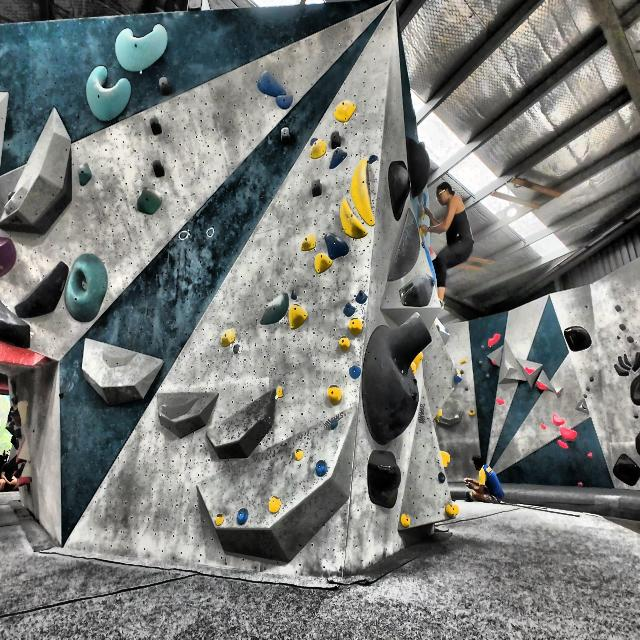Hold: (358, 314, 432, 446), (14, 259, 72, 323), (64, 257, 110, 331), (111, 19, 168, 77), (87, 66, 135, 128), (386, 207, 421, 286), (366, 450, 402, 508), (406, 134, 436, 200), (349, 158, 376, 226), (0, 298, 36, 348), (388, 155, 410, 218), (403, 270, 437, 306), (339, 198, 368, 239), (133, 190, 170, 222), (611, 451, 640, 488), (252, 69, 288, 96), (262, 292, 287, 329), (74, 159, 100, 192), (564, 324, 592, 354), (323, 230, 349, 261), (0, 235, 19, 272), (286, 303, 311, 331), (332, 99, 356, 122), (328, 145, 350, 170), (308, 137, 327, 164), (312, 254, 336, 274), (408, 351, 426, 376), (156, 72, 174, 97), (326, 384, 342, 411), (151, 155, 167, 181), (346, 317, 365, 336), (298, 232, 316, 252), (273, 94, 295, 110), (630, 373, 640, 408), (148, 116, 161, 139), (327, 129, 343, 147), (557, 427, 579, 440), (613, 364, 630, 380), (436, 449, 451, 467), (270, 495, 283, 515), (339, 336, 353, 354), (486, 334, 504, 348), (616, 354, 630, 372), (317, 459, 330, 478), (311, 178, 323, 198), (223, 328, 235, 348), (348, 364, 361, 382), (355, 289, 370, 304), (535, 379, 550, 394), (446, 503, 460, 519), (341, 300, 354, 317), (238, 508, 250, 526), (277, 126, 290, 142), (552, 413, 568, 426), (631, 350, 640, 373), (634, 430, 640, 457), (366, 152, 378, 165), (293, 447, 304, 461), (401, 514, 410, 531), (215, 514, 227, 526), (624, 350, 632, 367), (556, 440, 568, 451), (489, 355, 498, 369), (232, 342, 242, 354), (329, 418, 338, 430), (277, 386, 285, 399), (523, 366, 534, 375), (496, 395, 504, 406), (576, 480, 585, 488), (540, 421, 547, 431), (588, 375, 596, 382), (588, 451, 594, 460), (581, 404, 589, 410), (582, 393, 588, 400), (634, 413, 638, 420), (586, 386, 590, 392)
